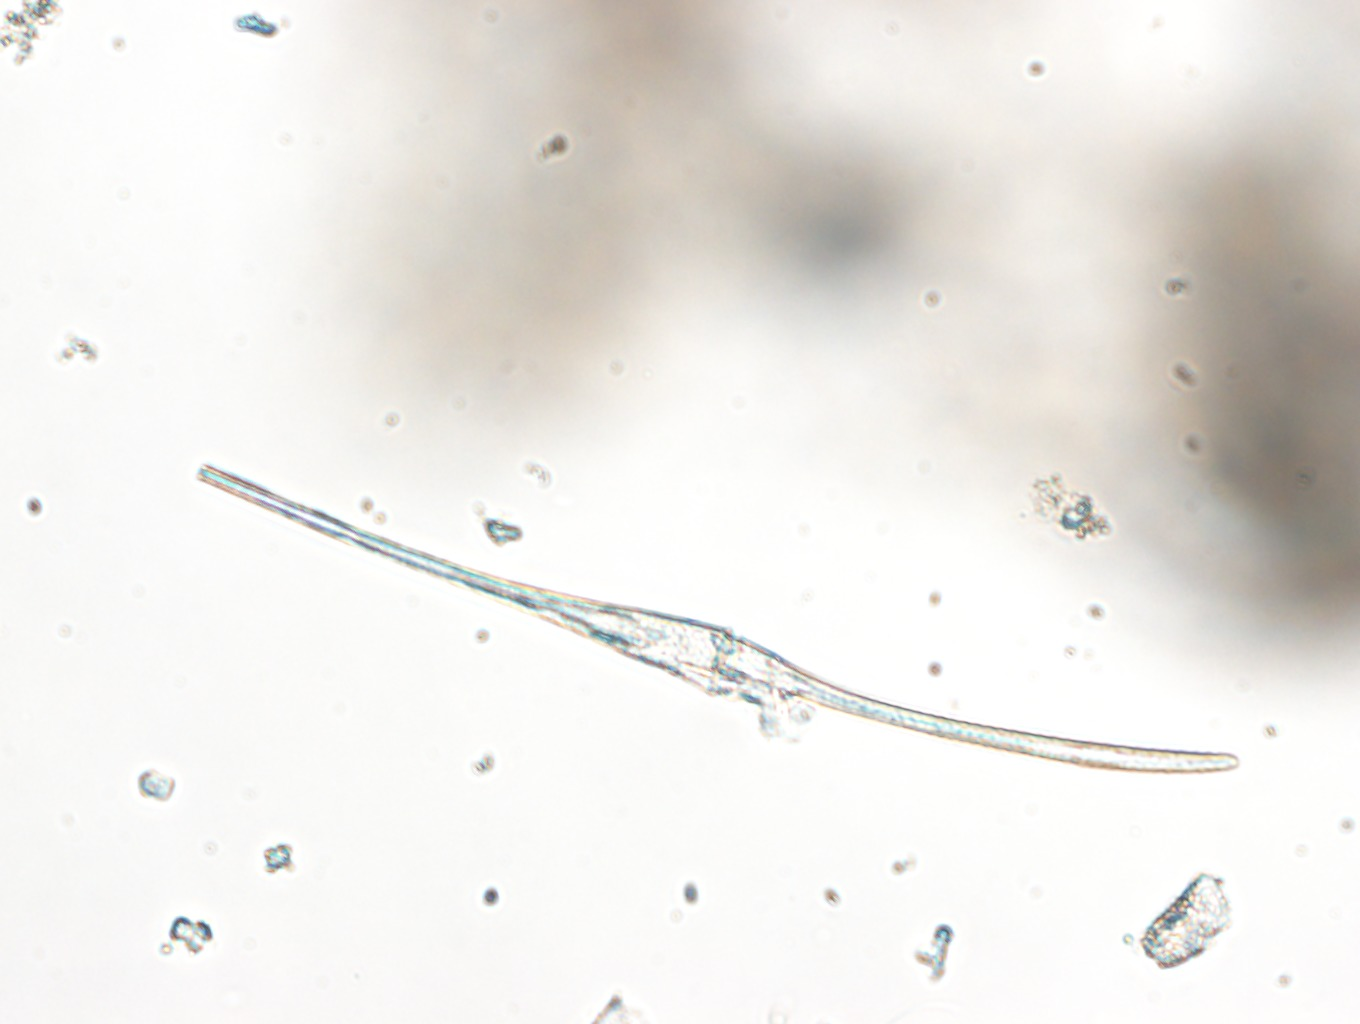ceratium fusus: (197, 461, 1240, 776)
